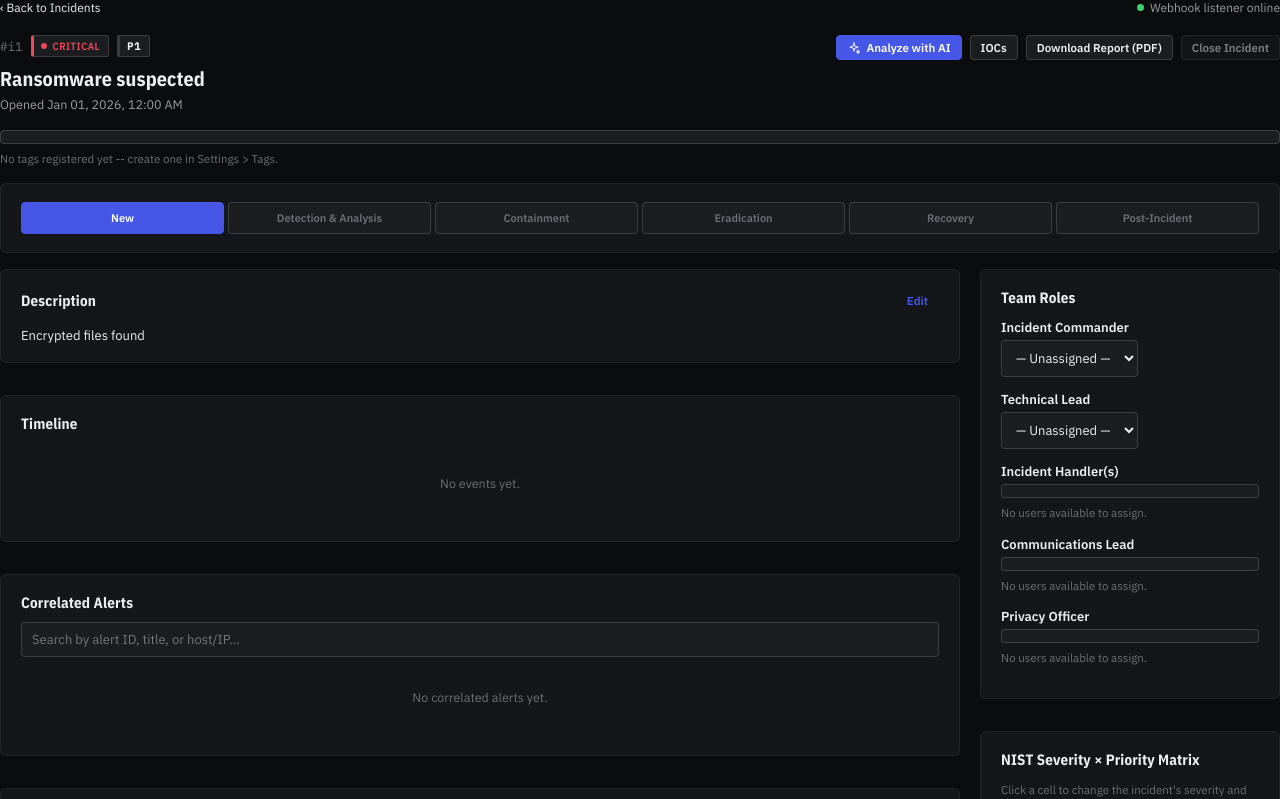
IncidentDetailPage › clicking IOCs opens the IOCs modal, which lists what's already recorded
Click the button "IOCs". click: (994, 48)
box: [970,35,1018,60]
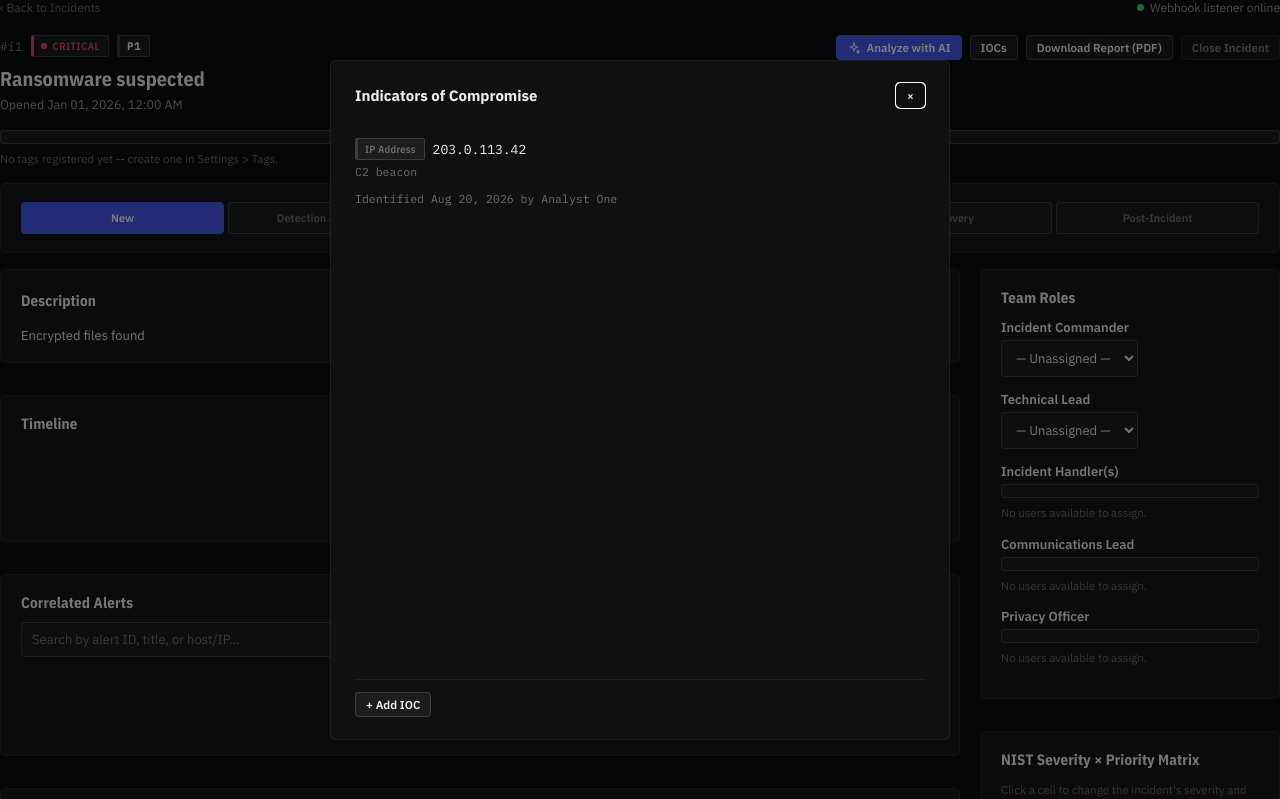
Result: the heading "Indicators of Compromise" is shown at [355,86,538,105]
Result: the text "203.0.113.42" is shown at [433,140,526,158]
Result: the text "C2 beacon" is shown at [355,164,417,179]
